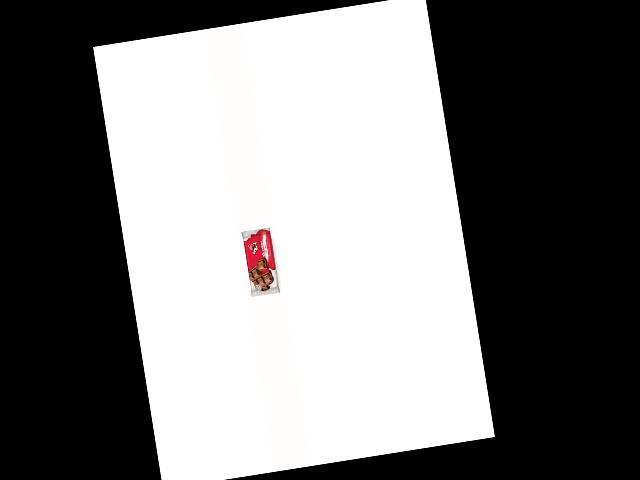chocolate: (243, 214, 295, 297)
